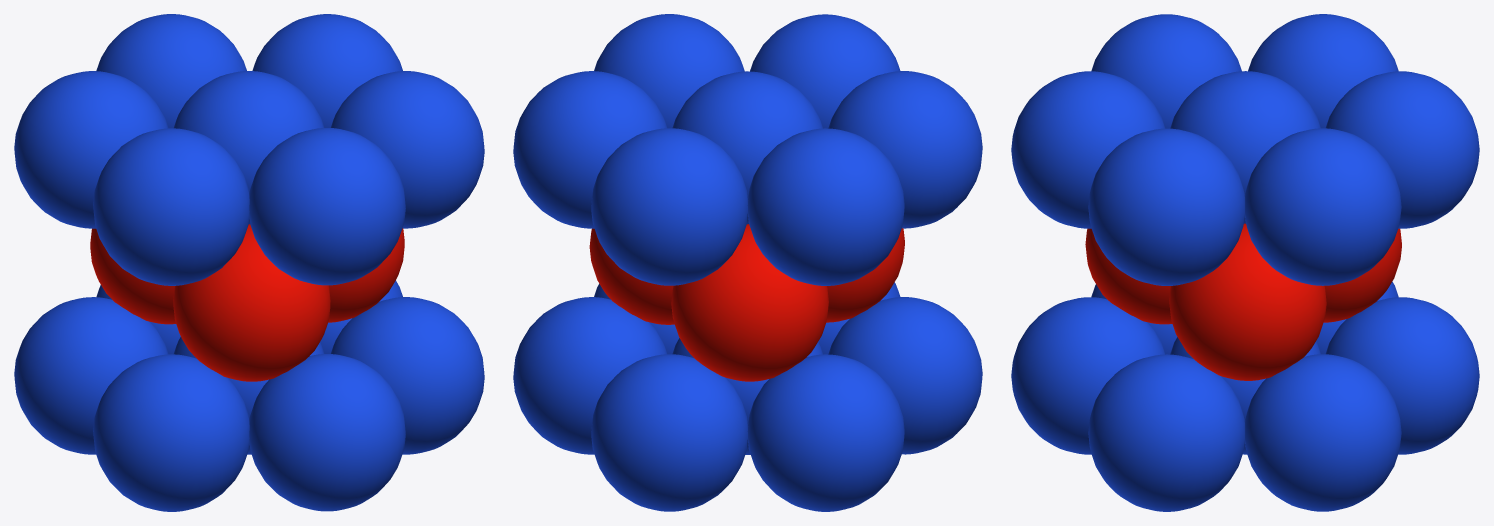
The model's file is 3-D[hexagonal(ABA)].glb.
3 views of the same model, side by side, from view 1: azimuth 30°, elevation 25°; view 2: azimuth 150°, elevation 25°; view 3: azimuth 270°, elevation 25° (orthographic).
Visible parts, largest first — view 1: Sphere.006, Sphere.005, Sphere.013, Sphere.012, Sphere.002, Sphere.007, Sphere.003, Sphere.010, Sphere.014, Sphere.004, Sphere.009, Sphere.008 (+5 smaller); view 2: Sphere.008, Sphere.007, Sphere.015, Sphere.014, Sphere, Sphere.006, Sphere.004, Sphere.013, Sphere.011, Sphere.009, Sphere.003, Sphere.005 (+5 smaller); view 3: Sphere.004, Sphere.003, Sphere.010, Sphere.011, Sphere.001, Sphere.008, Sphere.015, Sphere.005, Sphere.012, Sphere.009, Sphere.007, Sphere.006 (+5 smaller).
Part boxes in pixels (<box>): Sphere.006: <box>93,128,249,285</box>; Sphere.005: <box>249,128,405,285</box>; Sphere.013: <box>93,354,249,511</box>; Sphere.012: <box>249,354,405,511</box>; Sphere.002: <box>173,224,330,381</box>; Sphere.007: <box>14,71,168,228</box>; Sphere.003: <box>331,71,484,228</box>; Sphere.010: <box>331,297,484,454</box>; Sphere.014: <box>14,297,168,454</box>; Sphere.004: <box>252,14,402,127</box>; Sphere.009: <box>174,71,324,224</box>; Sphere.008: <box>96,14,246,128</box>; Sphere.008: <box>591,128,747,285</box>; Sphere.007: <box>747,128,904,285</box>; Sphere.015: <box>591,354,747,511</box>; Sphere.014: <box>747,354,904,511</box>; Sphere: <box>671,224,828,381</box>; Sphere.006: <box>828,71,982,228</box>; Sphere.004: <box>513,71,666,228</box>; Sphere.013: <box>828,297,982,454</box>; Sphere.011: <box>513,297,666,454</box>; Sphere.009: <box>672,71,822,224</box>; Sphere.003: <box>594,14,744,128</box>; Sphere.005: <box>750,14,900,128</box>; Sphere.004: <box>1245,128,1401,285</box>; Sphere.003: <box>1088,128,1244,285</box>; Sphere.010: <box>1088,354,1244,511</box>; Sphere.011: <box>1245,354,1401,511</box>; Sphere.001: <box>1169,223,1326,380</box>; Sphere.008: <box>1325,71,1479,228</box>; Sphere.015: <box>1325,297,1479,454</box>; Sphere.005: <box>1011,71,1165,228</box>; Sphere.012: <box>1011,297,1165,454</box>; Sphere.009: <box>1170,71,1320,223</box>; Sphere.007: <box>1248,14,1398,128</box>; Sphere.006: <box>1091,14,1241,128</box>.
Bounding box in the file's own units: 5.44 × 5.16 × 5.94.
